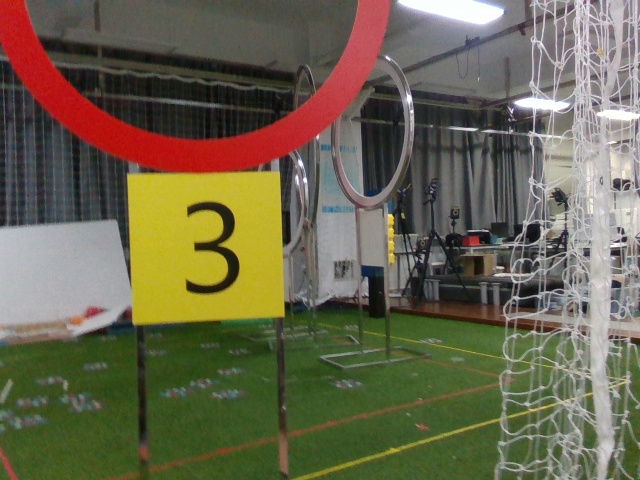target: (134, 180, 277, 321)
